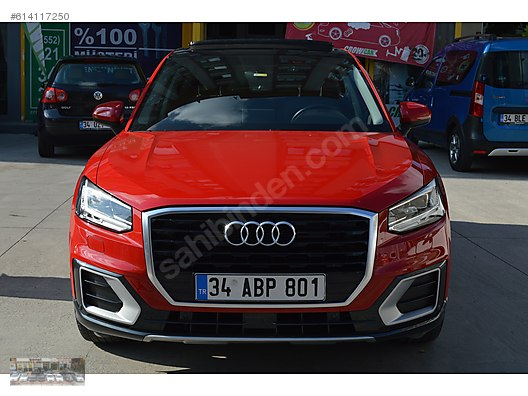audi: (219, 213, 302, 252)
